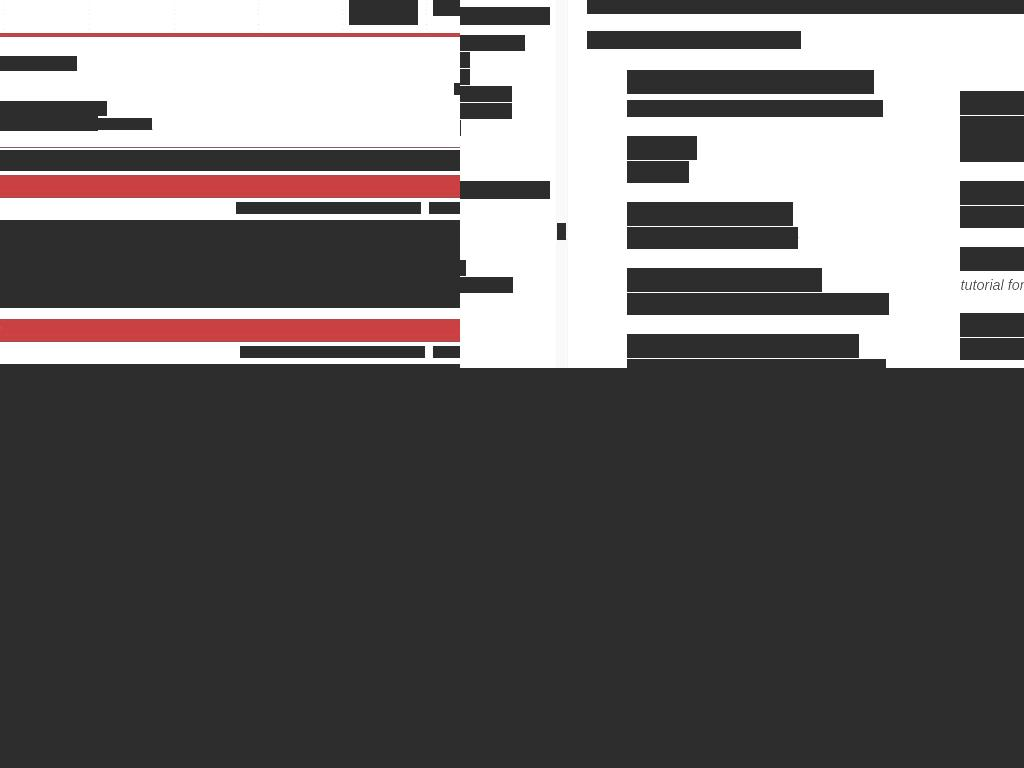button: (0, 368, 202, 598), (241, 368, 460, 501), (241, 531, 460, 658), (241, 687, 460, 768), (707, 405, 941, 448), (0, 150, 460, 171), (349, 12, 418, 25), (349, 0, 418, 12), (433, 3, 460, 16)
heading: (241, 531, 420, 658), (0, 609, 111, 762), (241, 687, 428, 768), (460, 7, 550, 25), (460, 181, 550, 199)
iframe: (0, 368, 460, 768)
image: (460, 368, 1024, 768), (0, 368, 202, 598), (0, 220, 460, 308), (241, 368, 460, 501), (434, 546, 460, 592), (445, 687, 460, 737)
link: (627, 70, 874, 94), (627, 334, 859, 358), (627, 268, 822, 292), (627, 202, 793, 226), (644, 100, 822, 117), (627, 136, 697, 160), (960, 91, 1024, 115), (960, 181, 1024, 205), (960, 247, 1024, 271), (960, 313, 1024, 337), (460, 35, 525, 51), (460, 277, 513, 293), (460, 86, 512, 102), (460, 103, 512, 119), (96, 118, 152, 130), (1, 56, 29, 71), (429, 202, 460, 214), (433, 346, 460, 358)
text: (587, 0, 1024, 14), (627, 293, 889, 315), (587, 31, 801, 49), (627, 227, 798, 249), (747, 417, 901, 437), (960, 116, 1024, 162), (627, 359, 886, 368), (236, 202, 421, 214), (240, 346, 425, 358), (0, 101, 107, 116), (0, 116, 98, 131), (960, 206, 1024, 228), (960, 272, 1024, 294), (960, 338, 1024, 360), (627, 161, 689, 183), (821, 100, 883, 117), (27, 56, 77, 71), (627, 100, 645, 117), (557, 223, 566, 240)
